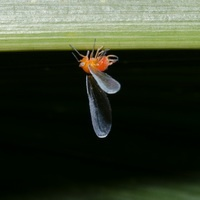insect: (70, 42, 120, 137)
